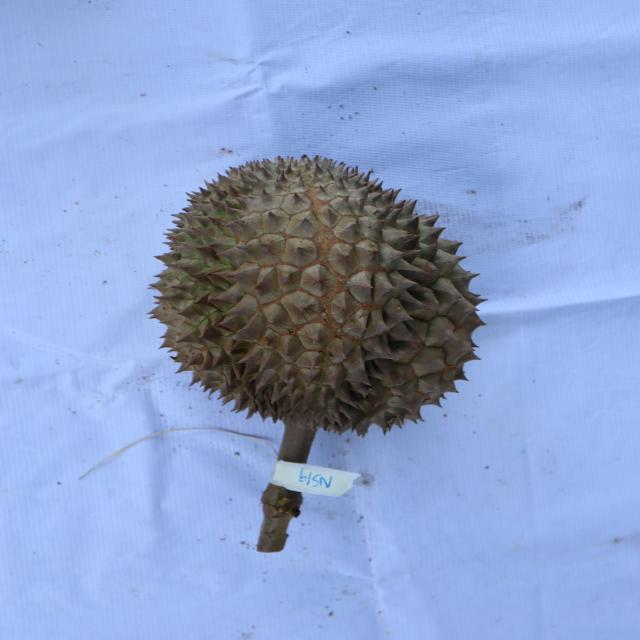mature: (147, 150, 491, 430)
